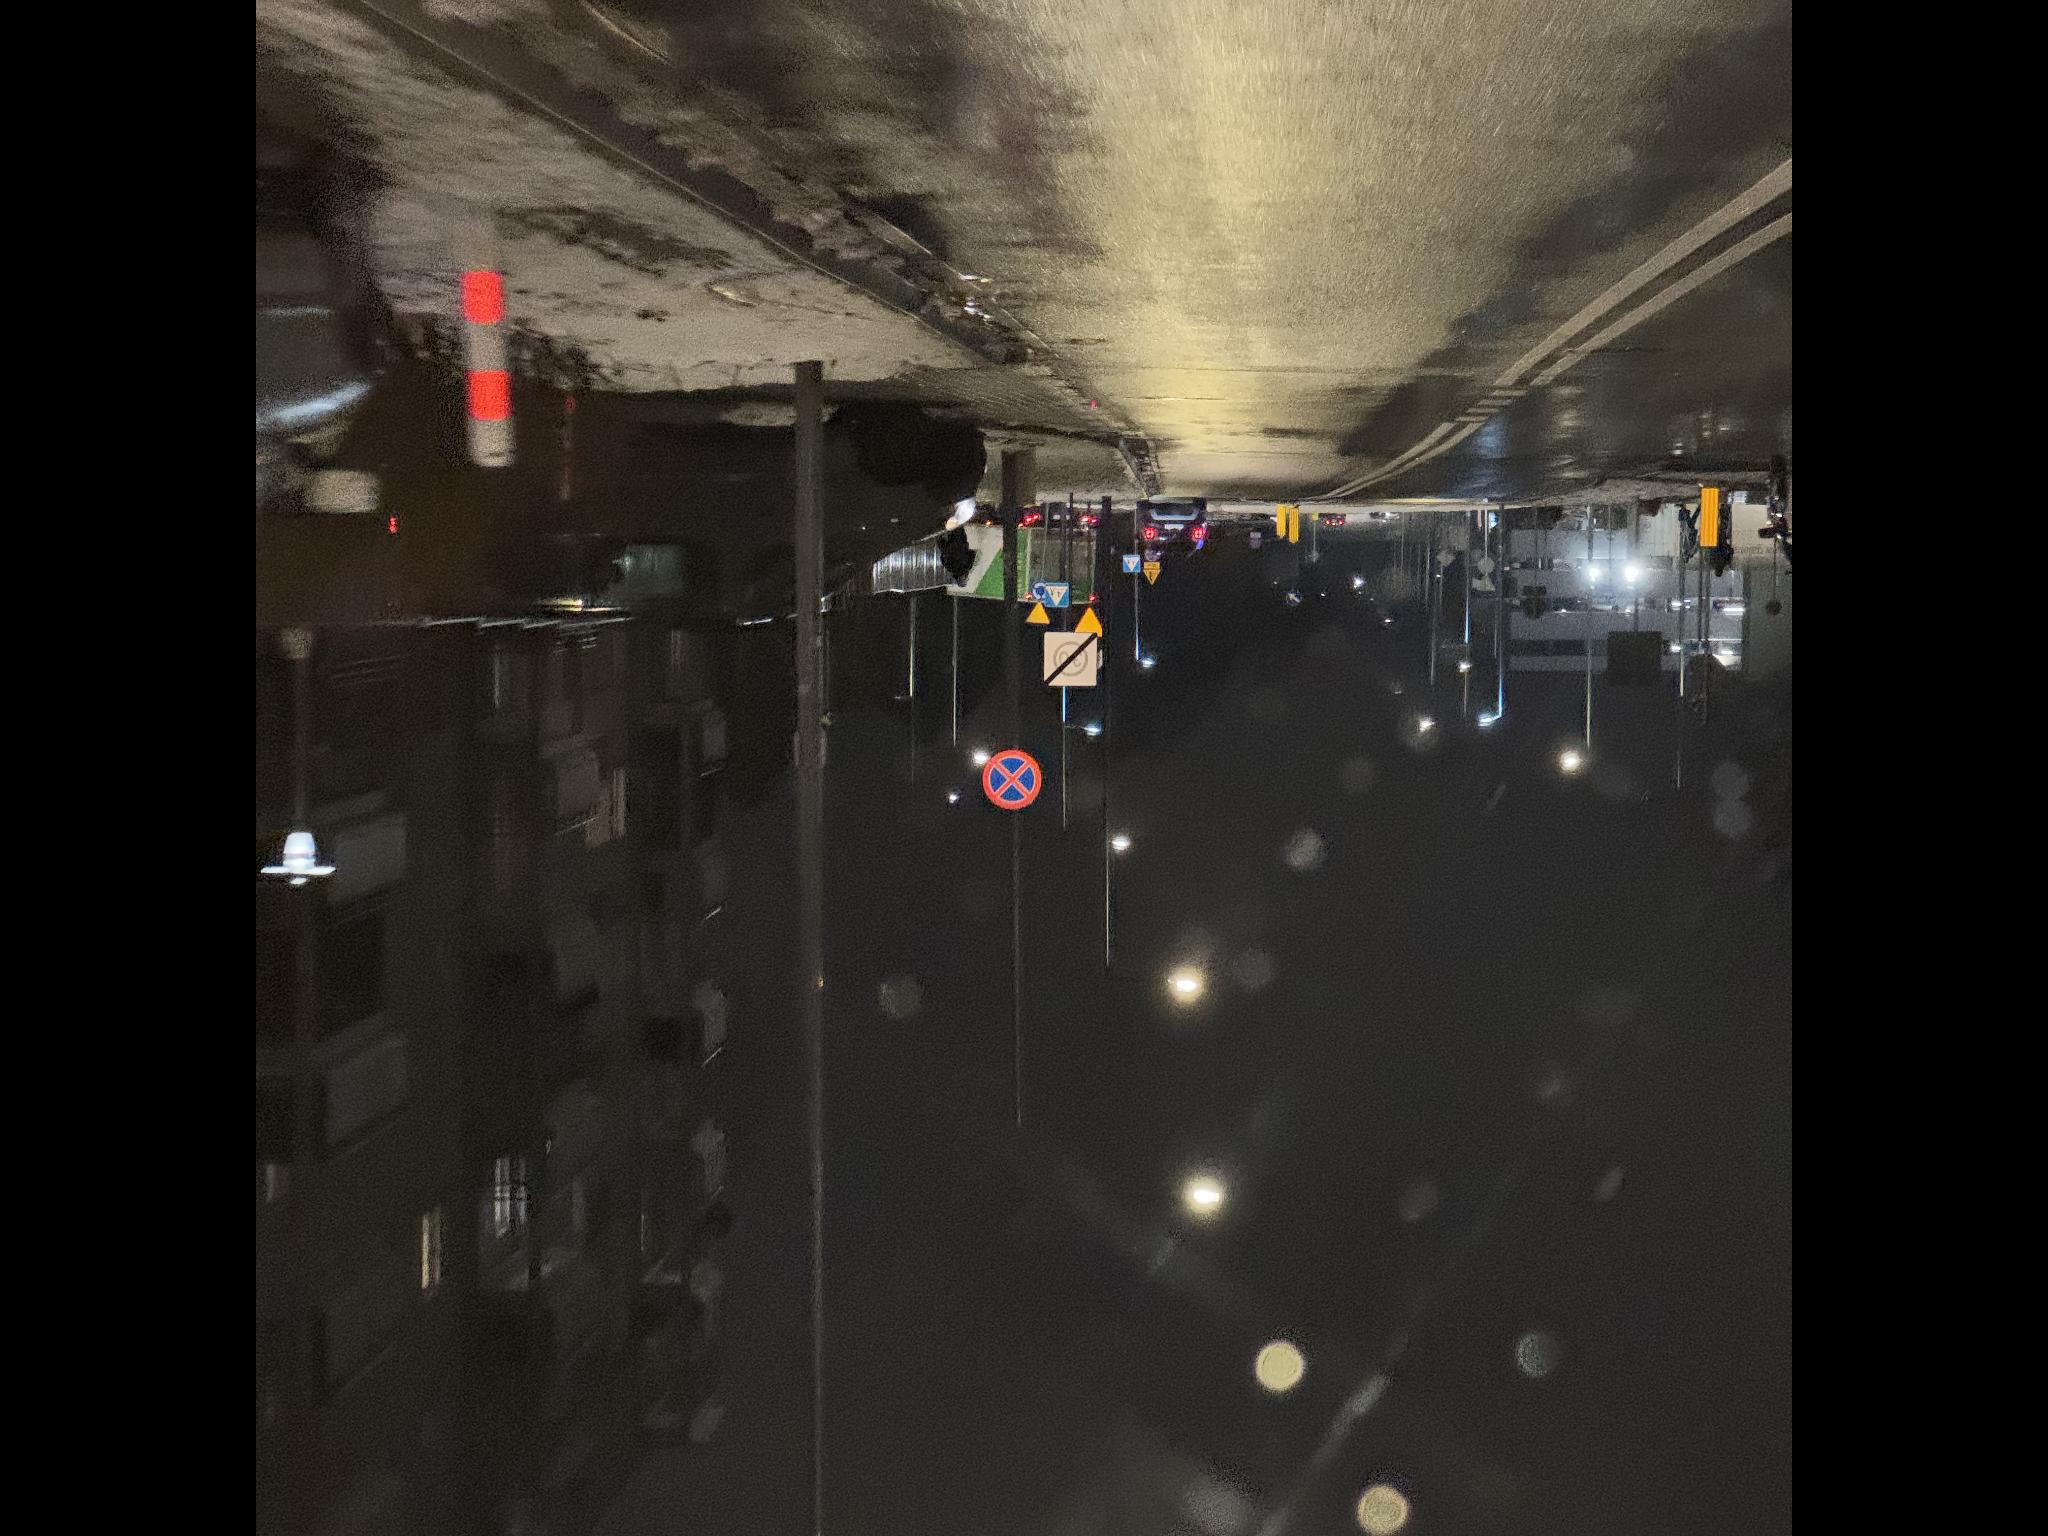information: (1442, 1044, 1467, 1070), (1477, 1123, 1493, 1141)
mandatory: (1448, 1029, 1467, 1046), (1443, 1286, 1459, 1302)
prohibitory: (1238, 981, 1301, 1044), (1364, 1047, 1416, 1097)
warning: (1413, 1073, 1442, 1102), (1424, 1026, 1445, 1050), (1464, 1144, 1480, 1160)
